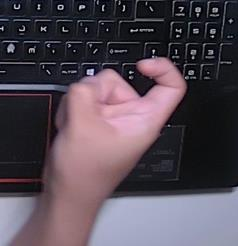anticlockwise: (39, 51, 190, 198)
